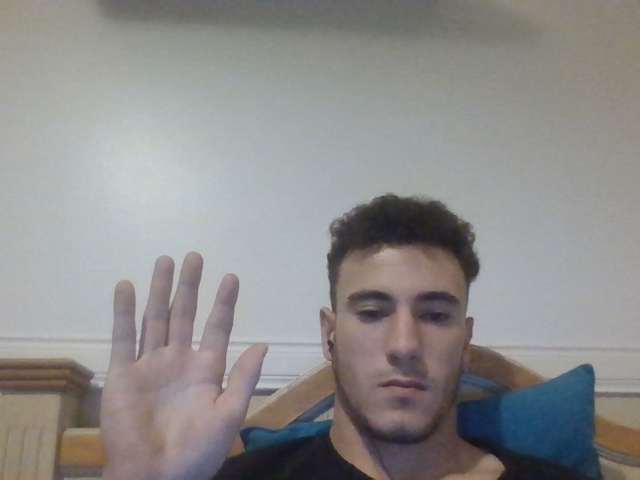Play: (100, 251, 268, 480)
